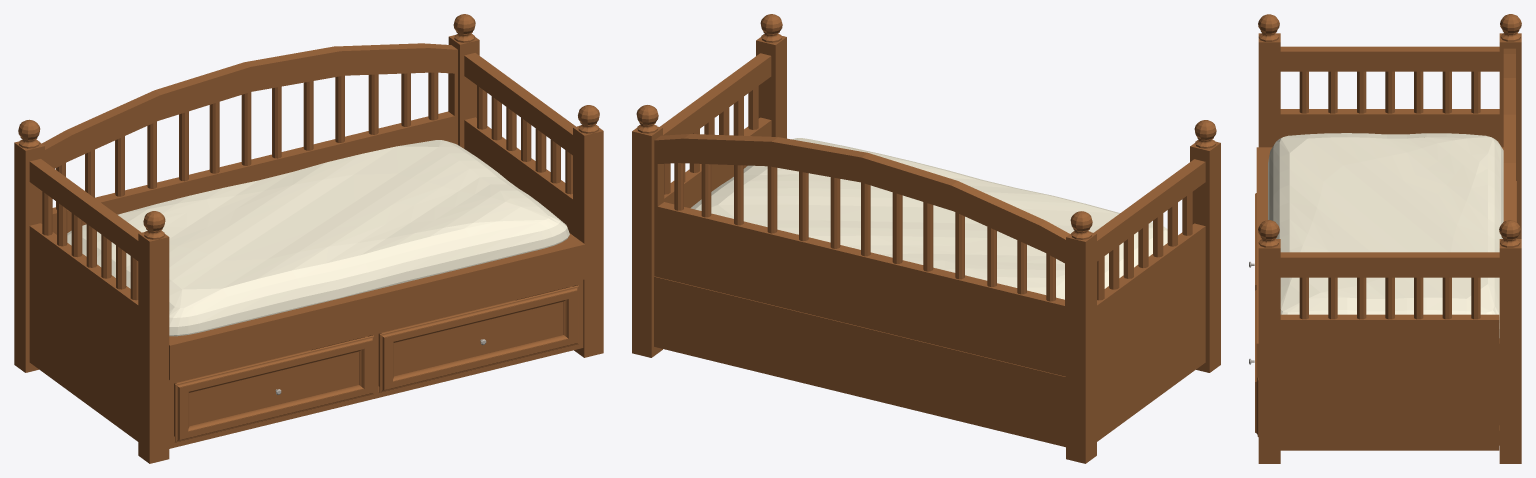
Rendered from seat-by-cmht-oculus-8eD5zdP2aXg.glb.
3 views of the same model, side by side, from view 1: azimuth 30°, elevation 25°; view 2: azimuth 150°, elevation 25°; view 3: azimuth 270°, elevation 25° (orthographic). The views are drawn at different scales.
Parts seen in each view (by area): view 1: Node; view 2: Node; view 3: Node.
Boxes of the visible parts, x1,y1,x2,y2 form: Node: [14, 14, 603, 463]; Node: [632, 14, 1220, 463]; Node: [1249, 14, 1521, 463].
Size of the model in its own units: 81.25 by 42.62 by 43.55.
